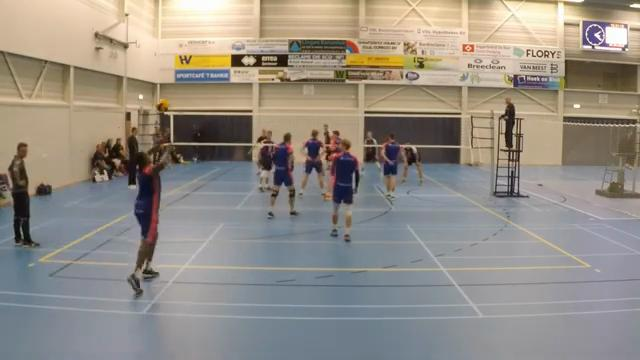Player: (331, 139, 359, 241), (268, 133, 298, 219), (299, 130, 324, 195), (381, 134, 403, 198), (258, 131, 273, 191), (325, 146, 341, 200), (401, 143, 422, 184), (249, 129, 266, 175), (364, 131, 380, 173), (327, 130, 340, 159), (323, 124, 330, 162)
Serve: (118, 134, 180, 296)
ball: (155, 99, 170, 113)
